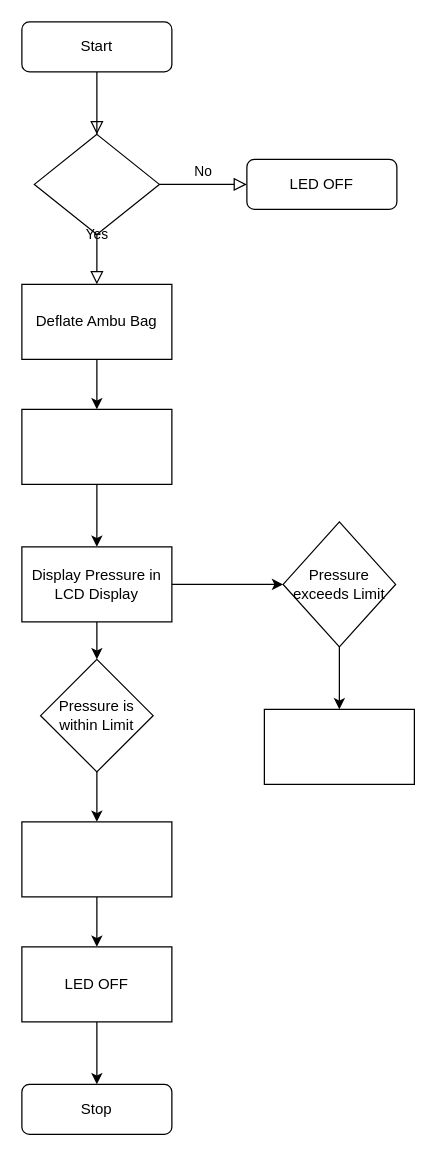
Image size: 436x1156. Some labels were removed from this diagram. The box of each missing label's shape, as (x1, y1, x2, y2) in pixels:
DC Motor ON: (33, 133, 159, 234)
Indicate Over Pressure through LED: (263, 708, 414, 784)
Reinflate Ambu Bag: (21, 821, 172, 897)
Sensor Detects Pressure Applied: (21, 408, 172, 484)
